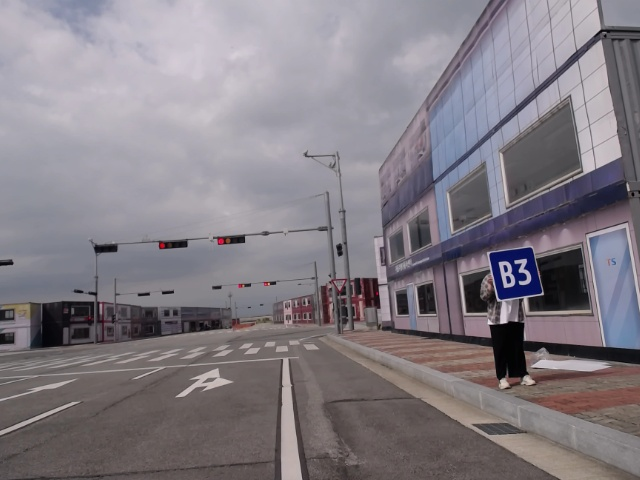delivery_b3: (484, 248, 546, 301)
